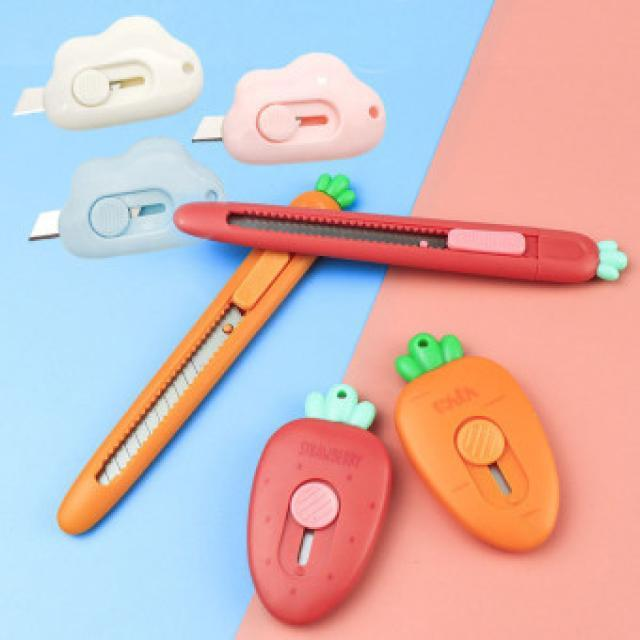cutter: (57, 168, 370, 542), (171, 192, 629, 299)
